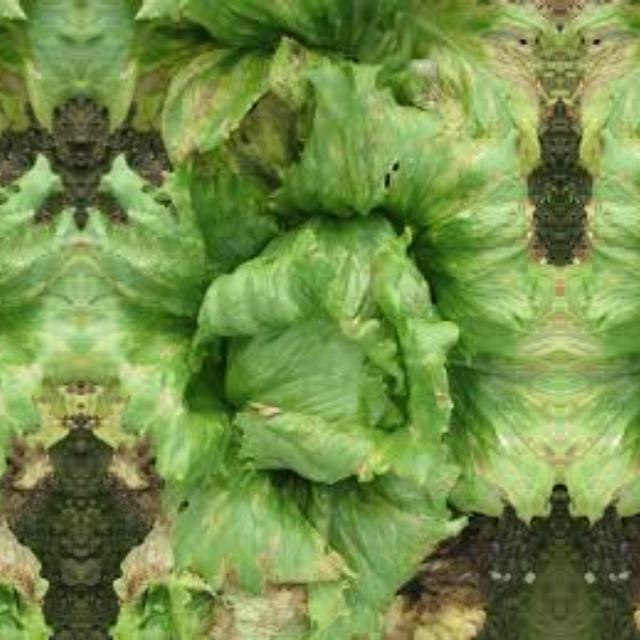Downy_mildew: (92, 348, 408, 626), (87, 0, 556, 182), (410, 240, 560, 502), (559, 240, 640, 501), (0, 347, 68, 626), (562, 0, 640, 182), (0, 0, 72, 182)
